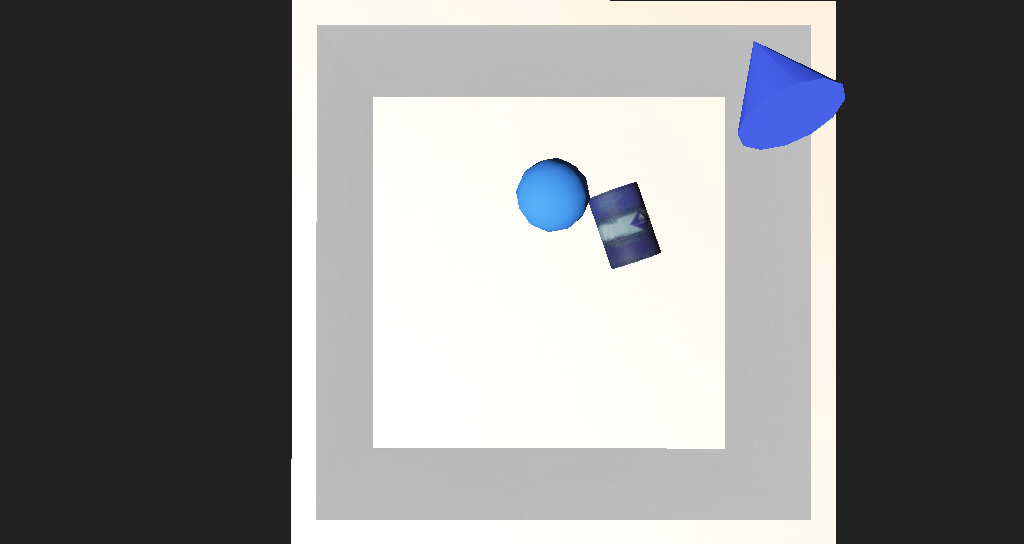cone: (542, 210, 603, 267)
cylinder: (613, 103, 748, 203)
sphere: (482, 203, 542, 246)
